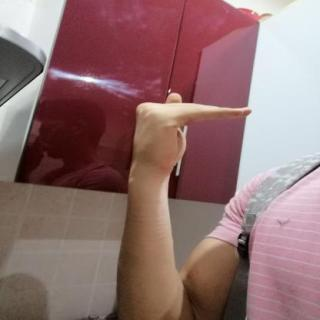KHAA: (116, 86, 262, 179)
